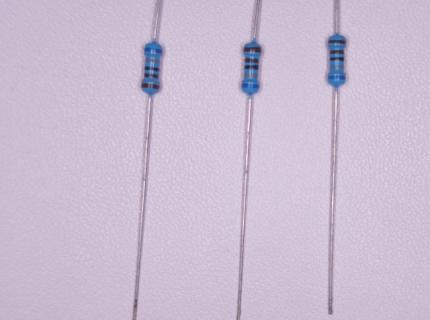Black band: (244, 64, 259, 70), (145, 66, 160, 71), (330, 57, 344, 61)
Blue band: (144, 47, 163, 54), (241, 84, 259, 89), (328, 75, 345, 80)
Brown band: (141, 83, 160, 89), (244, 47, 261, 52), (144, 73, 160, 78), (328, 40, 346, 44), (245, 58, 259, 63), (330, 50, 344, 54)
Grey band: (145, 58, 160, 63), (330, 65, 344, 69), (244, 73, 258, 77)
